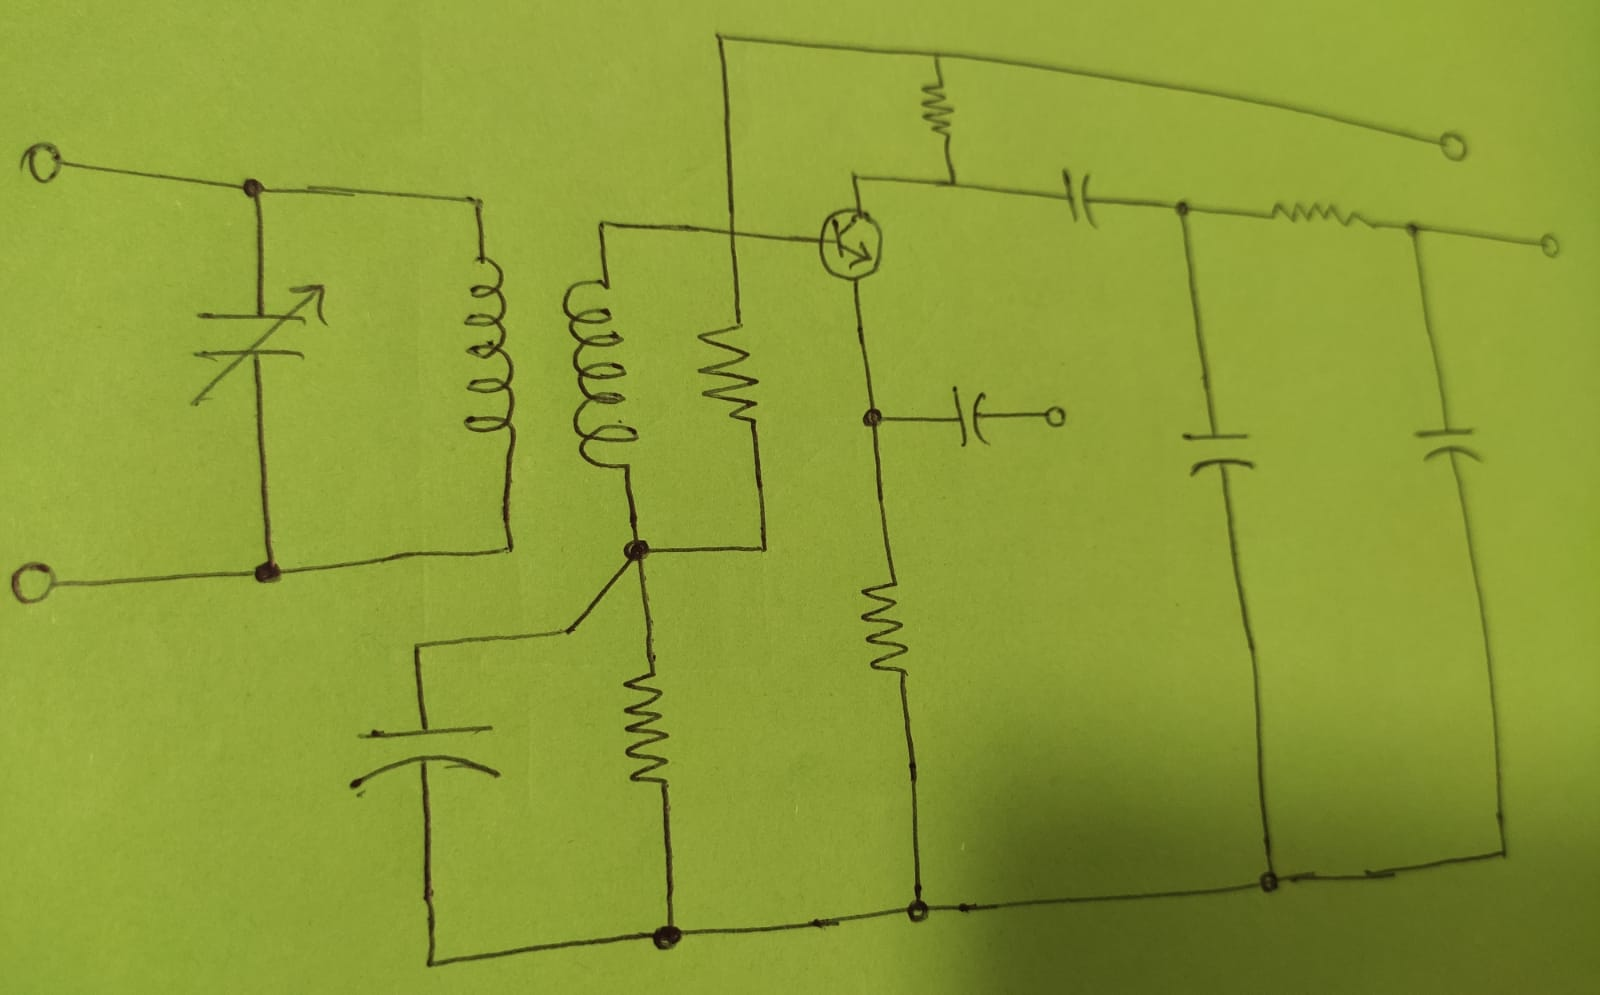capacitor.unpolarized: (194, 283, 327, 405), (352, 723, 502, 785), (1182, 428, 1252, 478), (1412, 423, 1487, 465), (1059, 169, 1101, 225), (949, 389, 987, 445)
junction: (646, 917, 687, 951), (248, 555, 287, 583), (1250, 864, 1285, 895), (621, 536, 654, 566), (934, 170, 971, 196), (902, 891, 932, 923), (462, 191, 495, 219), (858, 405, 888, 431), (241, 172, 265, 203), (1401, 217, 1423, 246), (1168, 199, 1195, 224), (495, 536, 521, 561), (750, 536, 774, 559), (591, 214, 615, 237), (923, 45, 948, 66), (1493, 841, 1515, 864), (407, 636, 431, 657), (709, 28, 734, 48), (845, 167, 866, 189), (556, 621, 579, 642), (419, 954, 441, 973), (722, 224, 742, 245)
resistor: (696, 320, 759, 423), (623, 669, 670, 788), (858, 579, 911, 673), (1264, 197, 1377, 232), (920, 70, 958, 139)
terminal: (10, 561, 61, 605), (24, 139, 69, 185), (1041, 397, 1074, 437), (1434, 128, 1470, 163), (1535, 232, 1560, 259)
transformer: (460, 252, 638, 473)
transistor: (817, 205, 885, 283)
